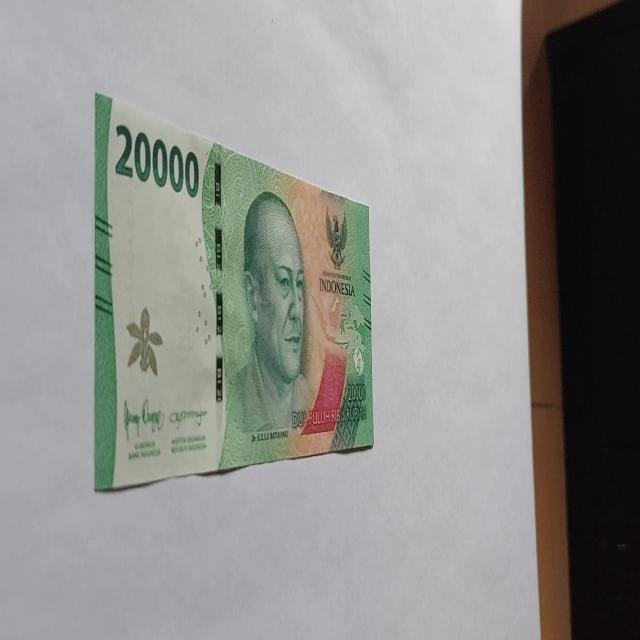dua puluh ribu rupiah: (92, 90, 374, 492), (216, 188, 346, 472)
